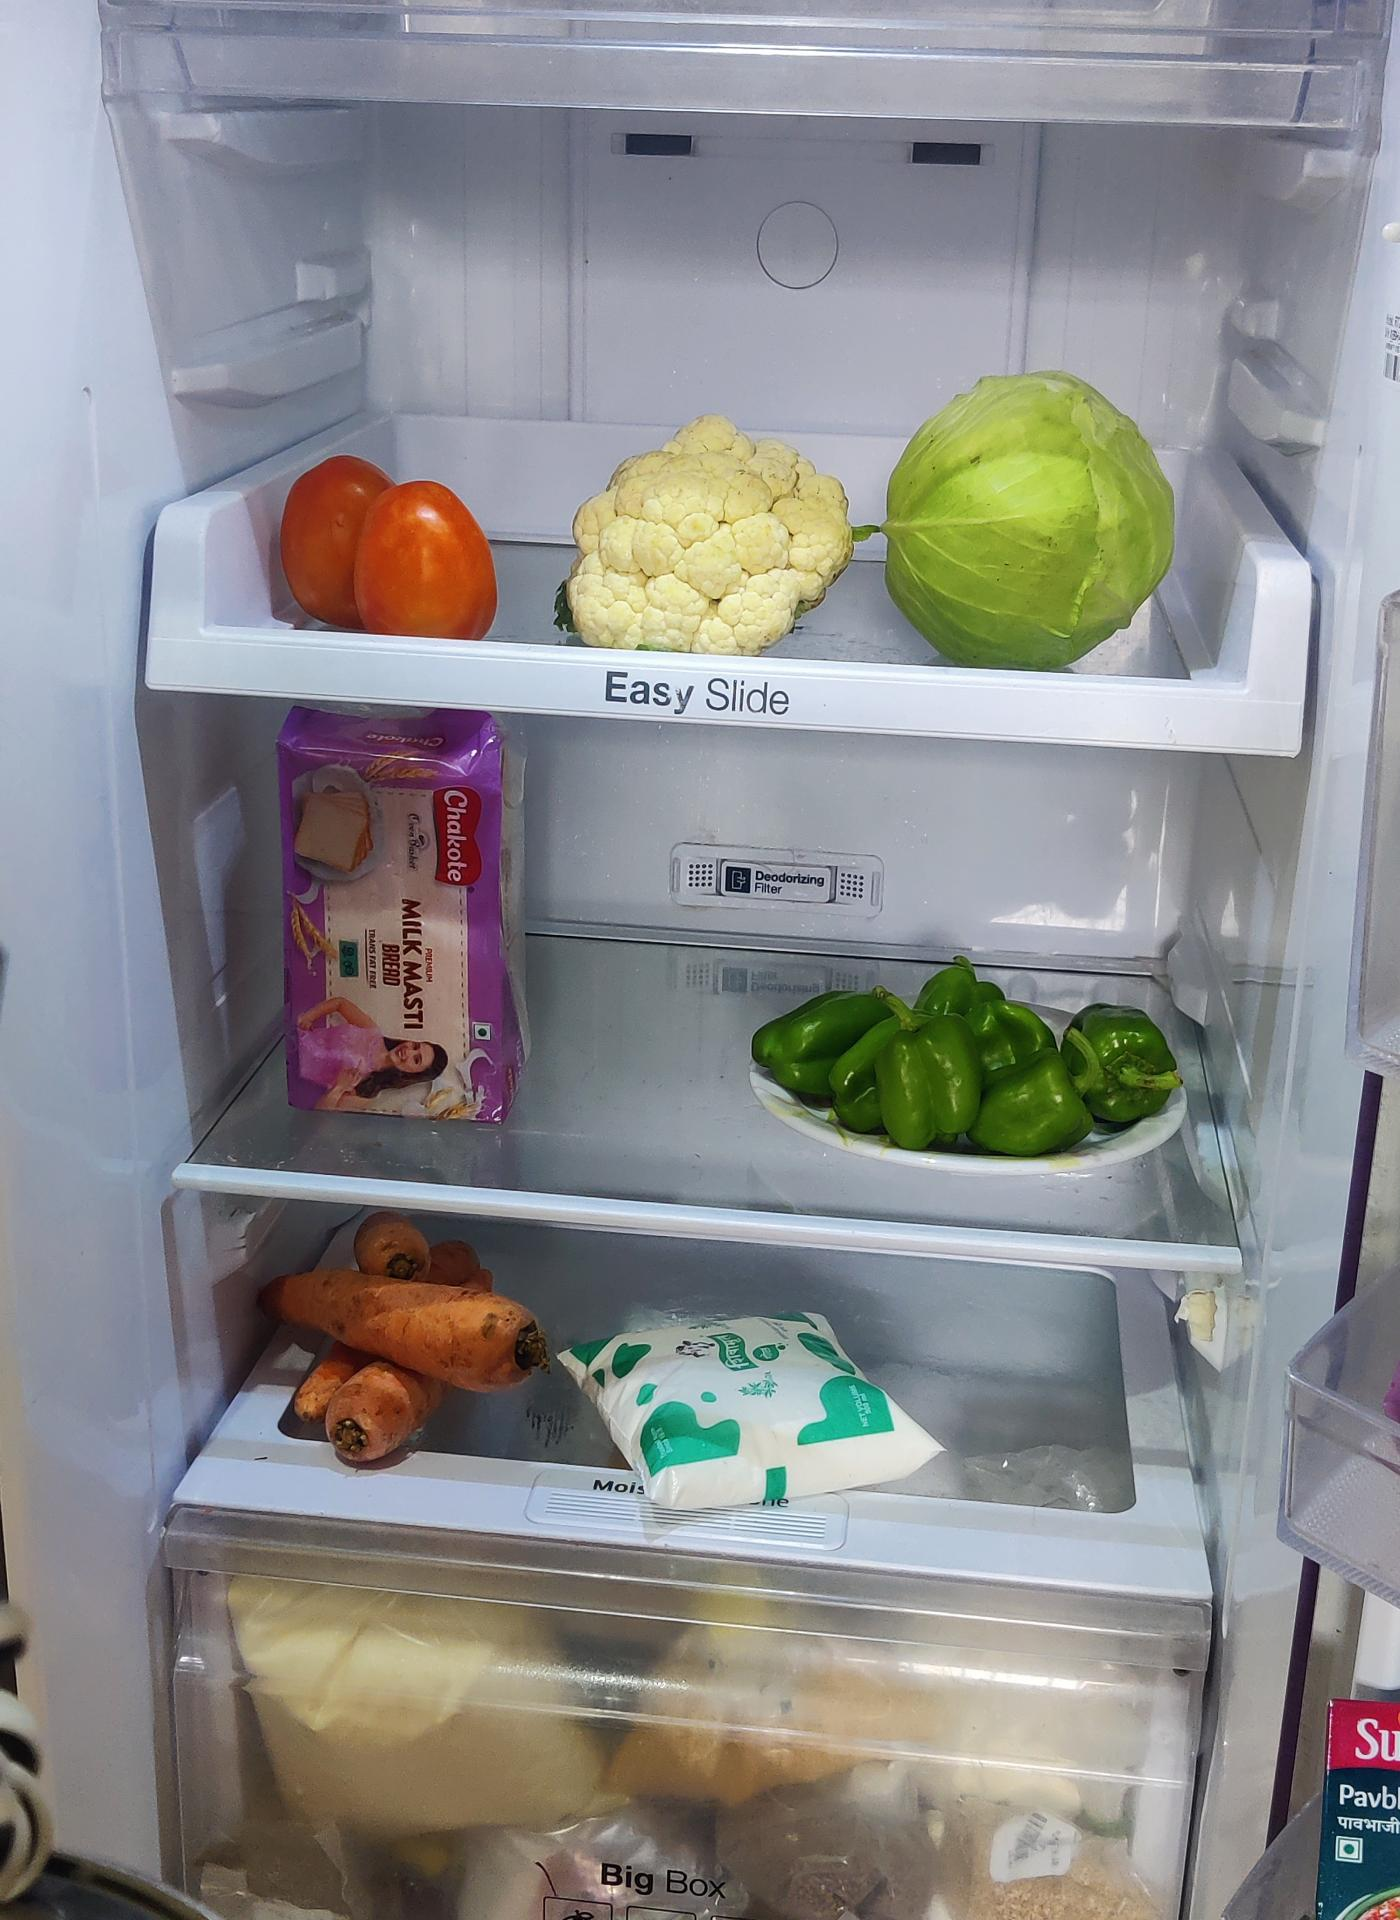bread: (280, 706, 540, 1122)
cabbage: (885, 369, 1182, 661)
capsicum: (748, 962, 1188, 1160)
carrots: (280, 1212, 556, 1462)
cauliflower: (566, 422, 864, 664)
milk: (570, 1312, 944, 1520)
tomato: (285, 460, 506, 647)
